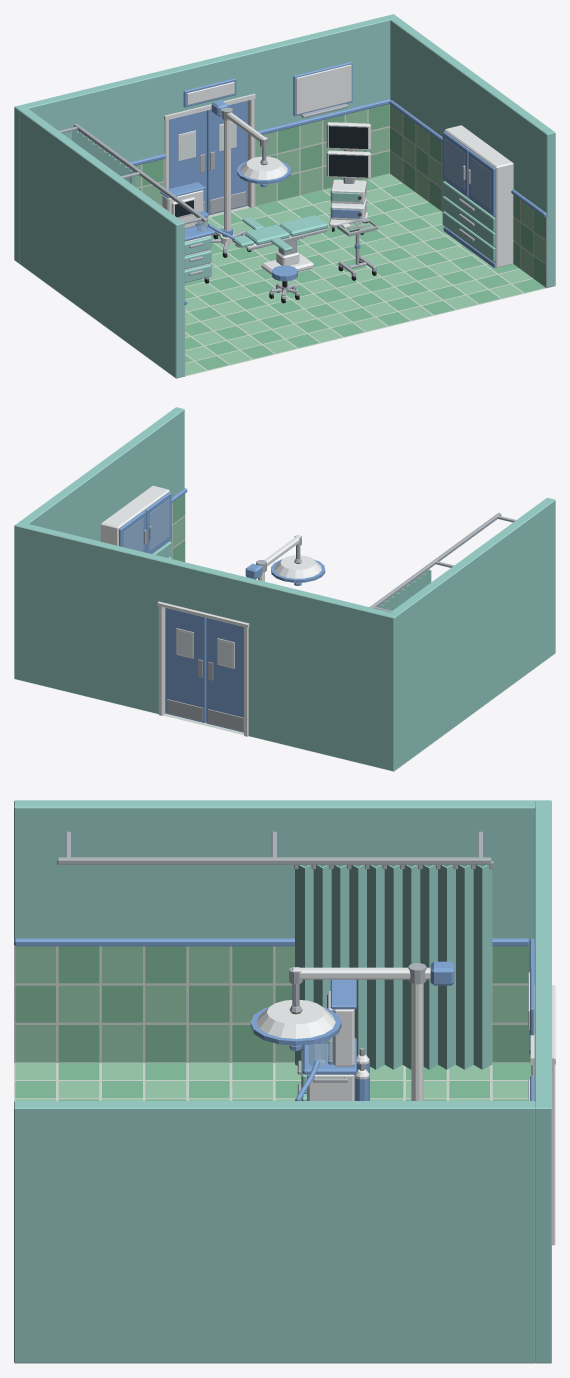
Rendered from modern-operating-room.glb.
3 renders of one model, top to bottom at view 1: azimuth 30°, elevation 25°; view 2: azimuth 150°, elevation 25°; view 3: azimuth 270°, elevation 25°, orthographic. The views are drawn at different scales.
Parts seen in each view (by area): view 1: Wall_Left, Room_FloorTiles, Room_FloorTiles2, Wall_Right, Wall_Back_R, Wall_Back_L, Room_FloorGrout, Room_WallTiles2, Room_WallTiles, Wall_Back_Lintel, Cabinet_Body, Door_R (+28 smaller); view 2: Wall_Left, Wall_Back_L, Wall_Back_R, Wall_Right, Wall_Back_Lintel, Door_R, Door_L, Cabinet_Body, Cabinet_Door_1, DoorFrame_R, LightHead, CurtainRail (+12 smaller); view 3: Wall_Right, Wall_Left, Curtain, Room_WallTiles2, Room_WallTiles, Room_FloorTiles2, Room_FloorTiles, Wall_Back_R, Wainscot_Left, CurtainRail, Room_FloorGrout, Rail_Left (+11 smaller).
Boxes of the visible parts, left/top/right/bottom form: Wall_Left: left=19, top=108, right=184, bottom=378; Room_FloorTiles: left=185, top=173, right=532, bottom=375; Room_FloorTiles2: left=184, top=179, right=545, bottom=369; Wall_Right: left=390, top=17, right=555, bottom=287; Wall_Back_R: left=247, top=14, right=397, bottom=130; Wall_Back_L: left=14, top=70, right=166, bottom=263; Room_FloorGrout: left=14, top=179, right=555, bottom=378; Room_WallTiles2: left=138, top=104, right=545, bottom=286; Room_WallTiles: left=135, top=104, right=545, bottom=277; Wall_Back_Lintel: left=162, top=50, right=251, bottom=114; Cabinet_Body: left=444, top=125, right=513, bottom=267; Door_R: left=207, top=100, right=247, bottom=215; Wall_Left: left=391, top=497, right=555, bottom=767; Wall_Back_L: left=246, top=578, right=398, bottom=771; Wall_Back_R: left=14, top=522, right=165, bottom=713; Wall_Right: left=19, top=407, right=184, bottom=541; Wall_Back_Lintel: left=161, top=557, right=250, bottom=622; Door_R: left=165, top=608, right=206, bottom=722; Door_L: left=206, top=618, right=243, bottom=732; Cabinet_Body: left=100, top=486, right=169, bottom=553; Cabinet_Door_1: left=144, top=492, right=171, bottom=553; DoorFrame_R: left=158, top=606, right=165, bottom=715; LightHead: left=274, top=555, right=321, bottom=578; CurtainRail: left=369, top=512, right=501, bottom=607; Wall_Right: left=14, top=1101, right=535, bottom=1363; Wall_Left: left=14, top=800, right=535, bottom=939; Curtain: left=295, top=865, right=492, bottom=1069; Room_WallTiles2: left=15, top=946, right=530, bottom=1061; Room_WallTiles: left=15, top=946, right=528, bottom=1061; Room_FloorTiles2: left=15, top=1062, right=531, bottom=1100; Room_FloorTiles: left=15, top=1062, right=528, bottom=1100; Wall_Back_R: left=534, top=988, right=551, bottom=1363; Wainscot_Left: left=14, top=945, right=530, bottom=1062; CurtainRail: left=57, top=857, right=491, bottom=864; Room_FloorGrout: left=14, top=1063, right=551, bottom=1363; Rail_Left: left=14, top=938, right=529, bottom=946.
Bounding box in the file's own units: 33.6 × 13 × 24.98.
